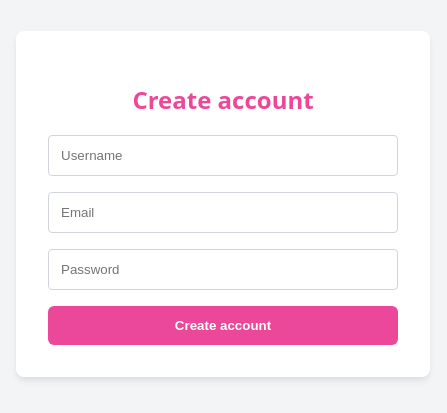
Test: RegisterForm › should show error when password field is empty
The image size is (447, 413).
In the field with placeholder "Username": coordinates (223, 156) [48,135,398,176], type "testuser"
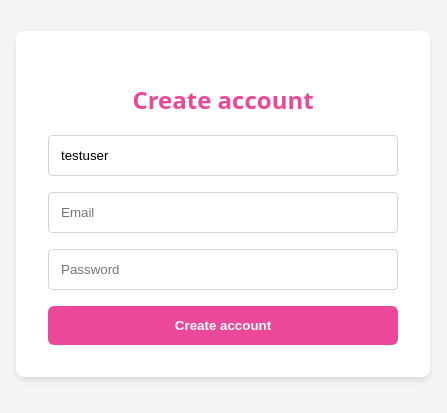
In the field with placeholder "Email": coordinates (223, 213) [48,192,398,233], type "test@example.com"
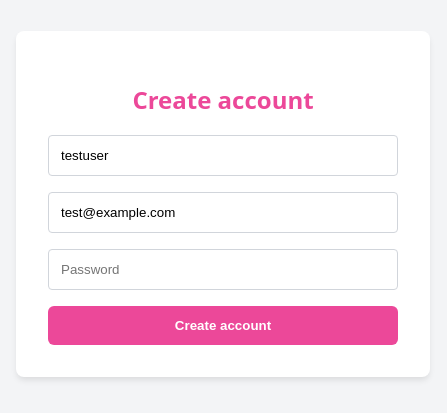
Click the button "Create account": coordinates (223, 326) [48,306,398,345]
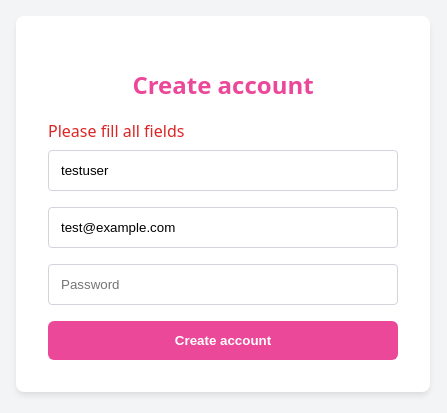
Expected: the text "Please fill all fields" is shown, [48,120,184,142]
